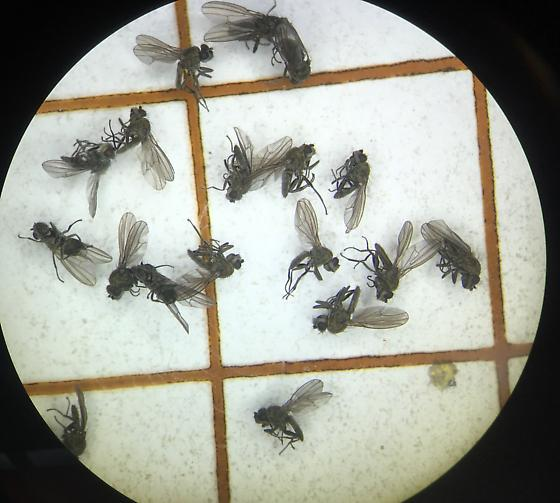Ephydridae: (349, 221, 439, 302), (202, 123, 293, 202), (281, 200, 350, 297), (14, 218, 109, 288), (102, 107, 180, 191), (134, 32, 213, 112), (252, 377, 333, 451), (41, 137, 115, 214), (140, 266, 219, 332), (310, 287, 410, 336), (424, 218, 484, 293), (105, 217, 152, 302), (41, 382, 90, 461), (196, 3, 282, 48), (330, 148, 371, 227), (279, 140, 323, 200), (274, 23, 312, 90)
